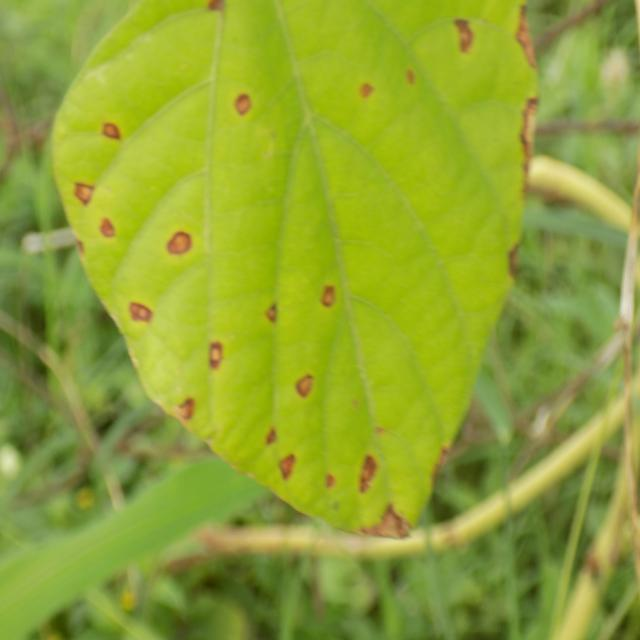Dolicos bean_cercospora leaf spot: (51, 0, 541, 530)
